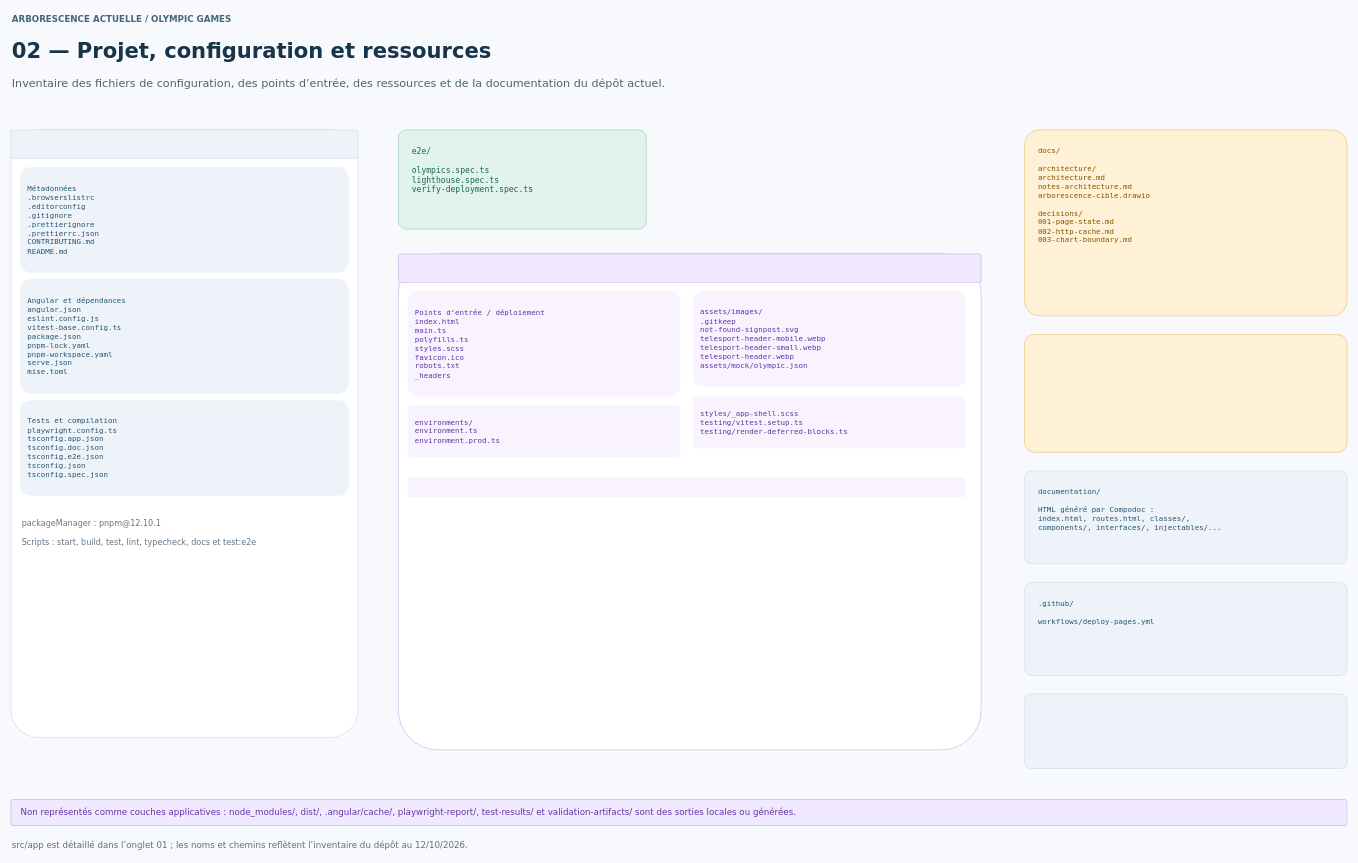
Some shapes in this 1358 by 863 pixel diagram are drawn without their labels. The centre of each missing label's shape, as x and y in pixels:
.vscode/ extensions.json settings.json .checkmarxIgnored: the point at 1185,730
app/ → détail dans l’onglet 01: the point at 686,487
doc/ issue-commits.md lighthouse-*/ rapports JSON/HTML et captures de validation: the point at 1185,393
p2-angular-maintainable-frontend/: the point at 184,143
src/: the point at 689,267
